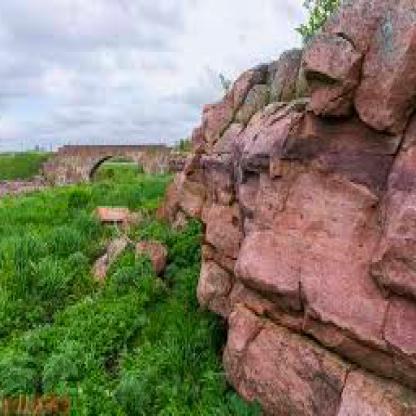Metamorphic_Quartize: (369, 147, 415, 325), (306, 2, 354, 143), (364, 0, 415, 129), (218, 106, 299, 182)
